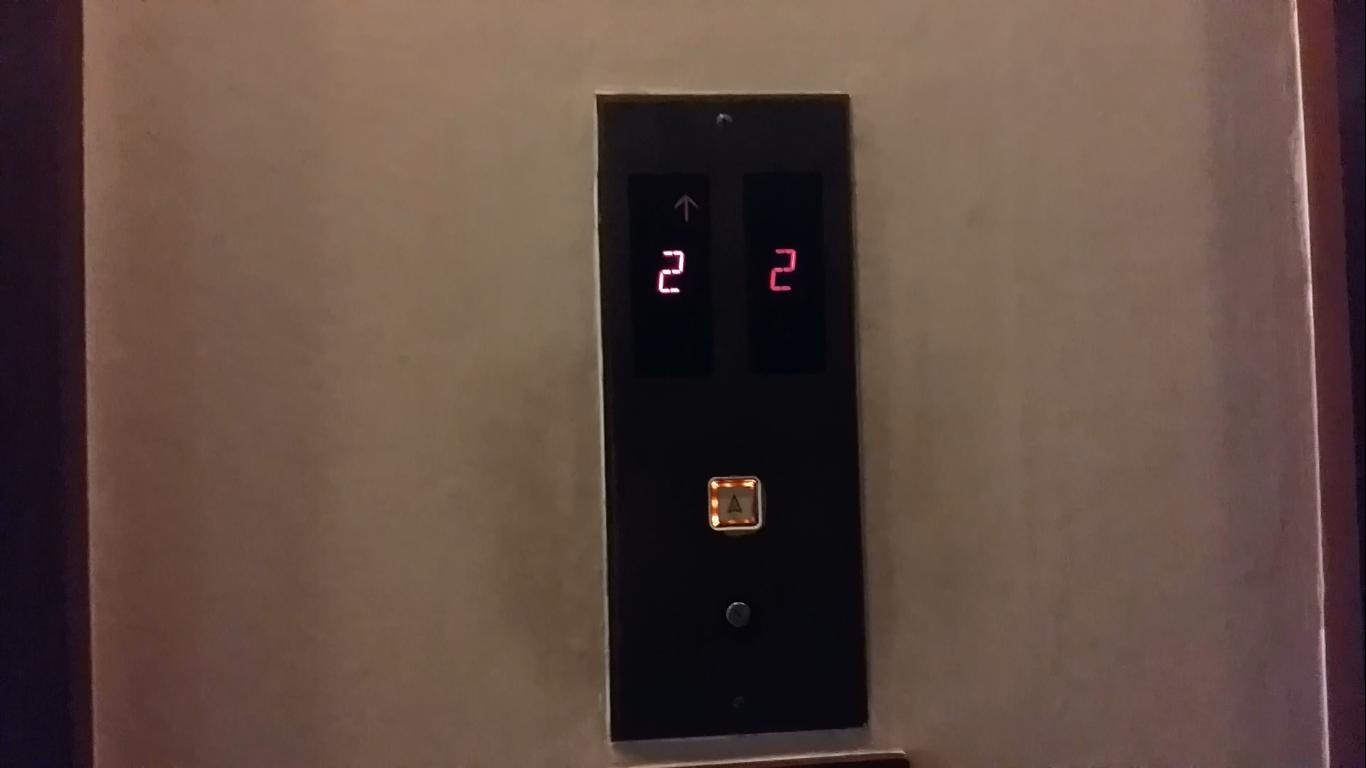blur: (724, 599, 753, 630)
led: (737, 171, 819, 379), (628, 170, 708, 372)
up: (707, 471, 762, 533)
